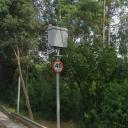speed_limit_40: (53, 60, 64, 73)
